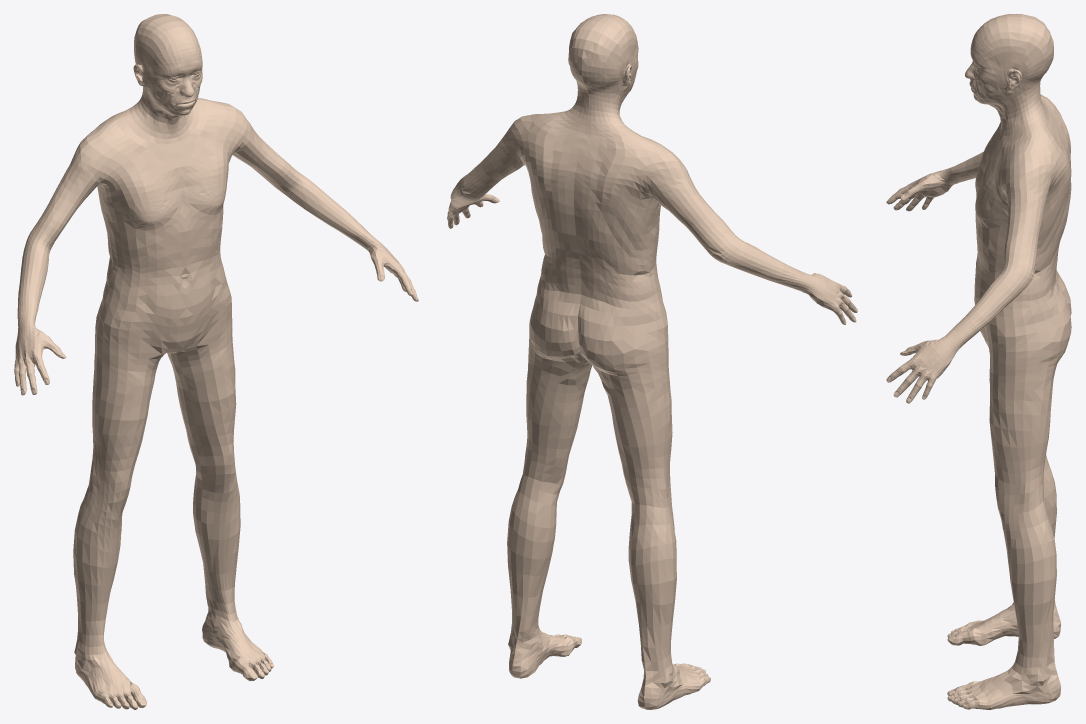
Rendered from male-older-fit-toned.glb.
3 views of the same model, side by side, from view 1: azimuth 30°, elevation 25°; view 2: azimuth 150°, elevation 25°; view 3: azimuth 270°, elevation 25° (orthographic).
Visible parts, largest first — view 1: world; view 2: world; view 3: world.
Part boxes in pixels (x1,y1,x2,y2): world: (14, 14, 418, 709); world: (447, 14, 857, 709); world: (886, 14, 1071, 709).
Bounding box in the file's own units: 1.22 × 1.93 × 0.4948.
